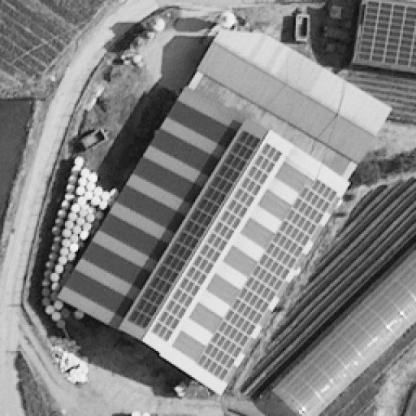solar-pv-panel: (197, 179, 337, 381), (149, 142, 282, 343), (126, 131, 261, 329), (358, 0, 416, 67)
